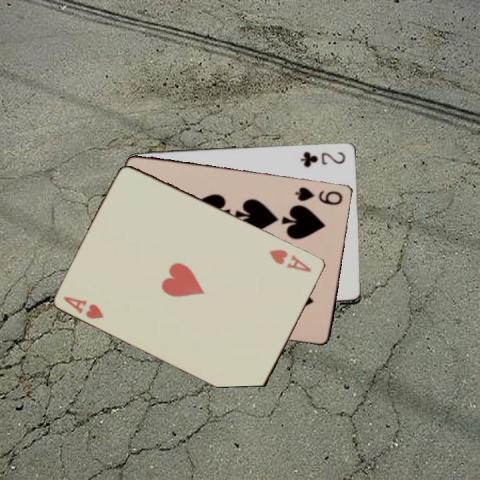2c: (297, 148, 347, 168)
9s: (292, 183, 345, 207)
Ah: (267, 246, 313, 274), (61, 292, 105, 320)
